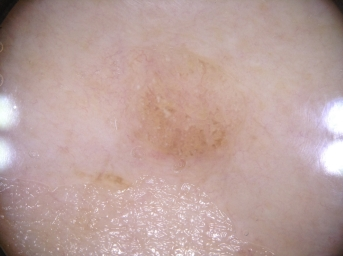seborrheic keratosis: (74, 35, 262, 175)
